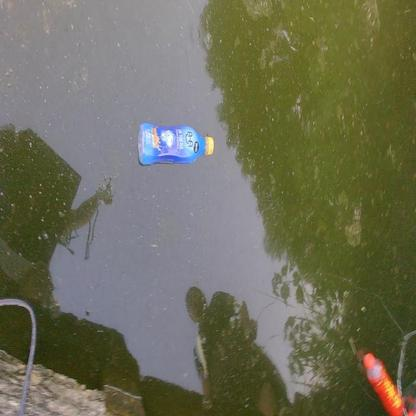plastic bottle: (137, 123, 213, 165), (363, 354, 405, 414)
